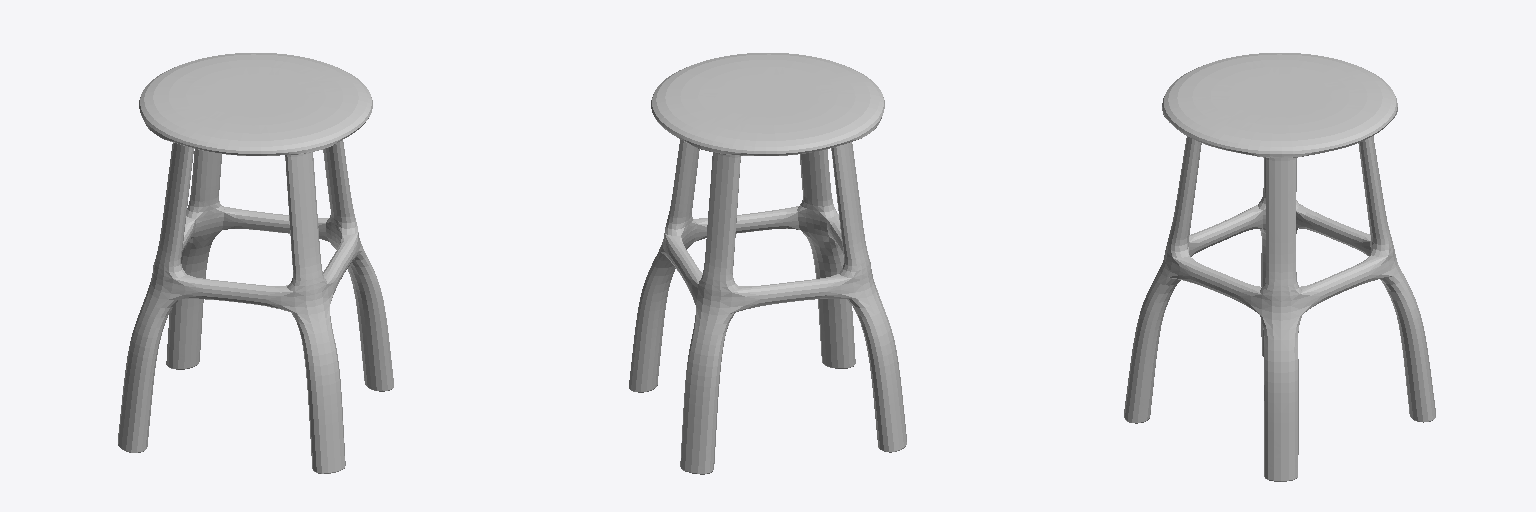
Rendered from stool.obj.
3 views of the same model, side by side, from view 1: azimuth 30°, elevation 25°; view 2: azimuth 150°, elevation 25°; view 3: azimuth 270°, elevation 25° (orthographic).
Parts seen in each view (by area): view 1: Circle; view 2: Circle; view 3: Circle.
Part boxes in pixels (x1,y1,x2,y2): Circle: (118,53,393,473); Circle: (629,53,906,474); Circle: (1124,53,1435,481).
Bounding box in the file's own units: 2.59 × 2.93 × 2.59.